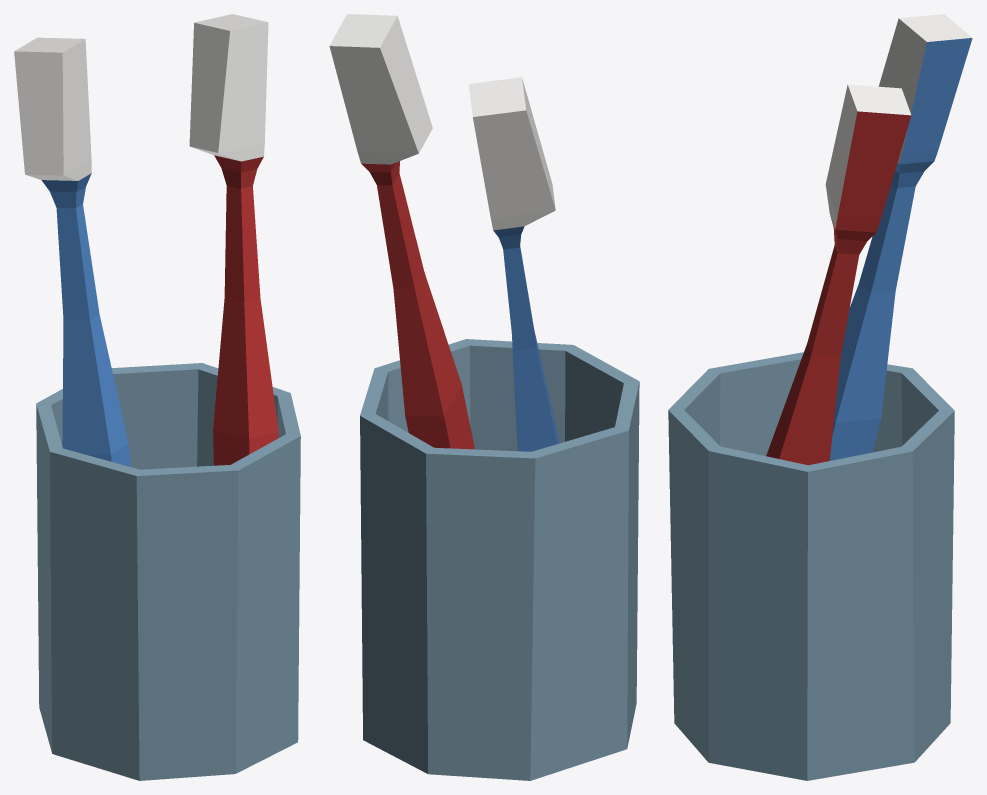
Rendered from Toothbrush_2.fbx.
3 views of the same model, side by side, from view 1: azimuth 30°, elevation 25°; view 2: azimuth 150°, elevation 25°; view 3: azimuth 270°, elevation 25° (orthographic). The views are drawn at different scales.
Parts seen in each view (by area): view 1: Toothbrush_2; view 2: Toothbrush_2; view 3: Toothbrush_2.
Boxes of the visible parts, x1,y1,x2,y2 form: Toothbrush_2: [14, 14, 300, 780]; Toothbrush_2: [329, 14, 639, 780]; Toothbrush_2: [668, 14, 972, 780].
Bounding box in the file's own units: 12.27 × 13 × 32.23.
